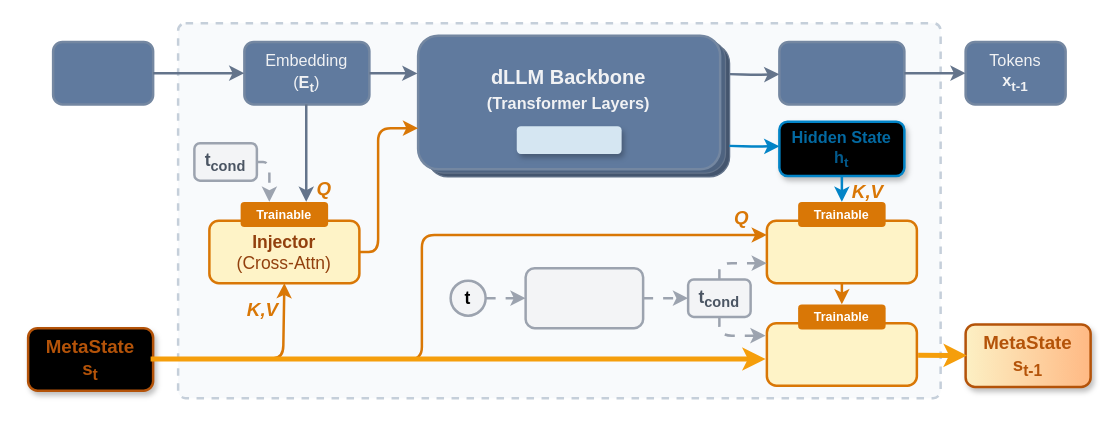
The diagram is 1120 pixels wide and 421 high, and some of its shapes have lost their labels. Each missing label, with the centre of its shape:
Mixer (Cross-Attn): (x=841, y=251)
Sampling & Remasking: (x=841, y=72)
Shared Time Conditioner: (x=584, y=297)
Tokens x t: (x=102, y=72)
Updater (GRU-style): (x=841, y=353)
❄️ Frozen: (x=569, y=141)
